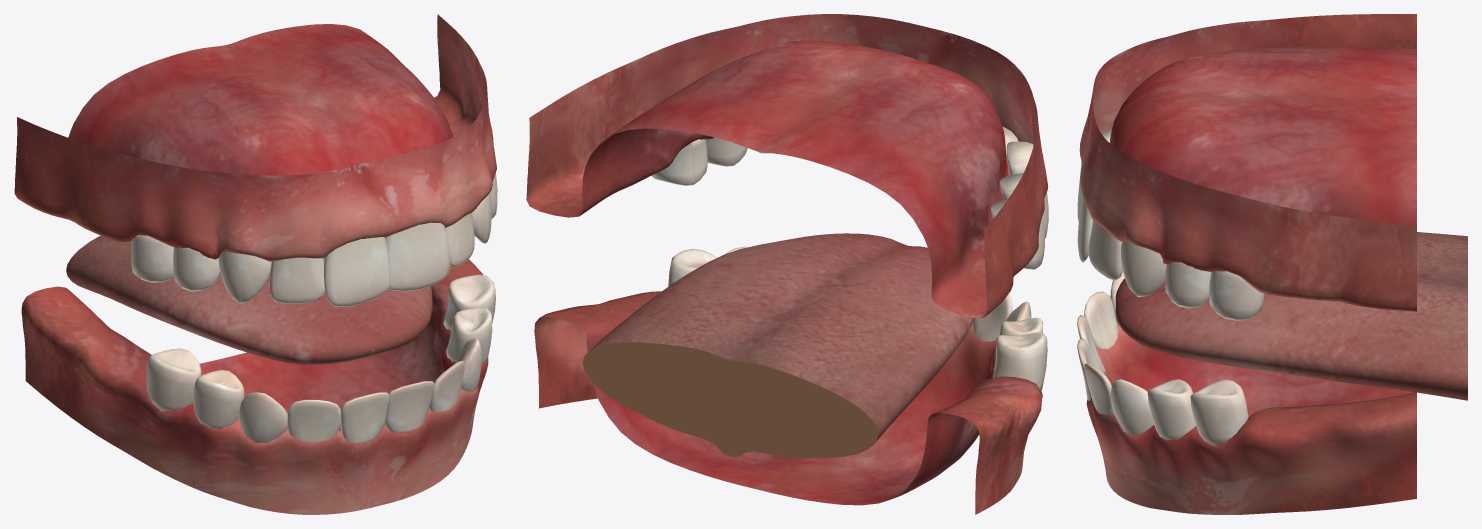
The model's file is ChildTeethNamed.glb.
The picture shows the model from 3 angles, left to right: view 1: azimuth 30°, elevation 25°; view 2: azimuth 150°, elevation 25°; view 3: azimuth 270°, elevation 25°; orthographic projection. The views are drawn at different scales.
Parts seen in each view (by area): view 1: EnciaSuperior, EnciaInferior, Lengua, IncisivoCentralSuperior1, IncisivoCentralSuperior2, SegundoPremolarInferior1, PrimerPremolarInferior1, IncisivoLateralSuperior1, IncisivoLateralInferior1, IncisivoCentralInferior1, CaninoSuperior1, CaninoInferior1 (+9 smaller); view 2: EnciaSuperior, Lengua, EnciaInferior, SegundoPremolarInferior1, SegundoPremolarSuperior2, IncisivoLateralInferior1, SegundoPremolarInferior2, PrimerPremolarSuperior2, CaninoSuperior1, PrimerPremolarInferior1; view 3: EnciaSuperior, EnciaInferior, Lengua, SegundoPremolarInferior2, PrimerPremolarInferior2, SegundoPremolarSuperior2, CaninoSuperior2, CaninoInferior2, PrimerPremolarSuperior2, IncisivoLateralInferior1, IncisivoLateralSuperior2, IncisivoLateralInferior2 (+3 smaller).
Boxes of the visible parts, x1,y1,x2,y2 form: EnciaSuperior: (14, 14, 496, 261); EnciaInferior: (21, 259, 488, 514); Lengua: (66, 235, 432, 364); IncisivoCentralSuperior1: (323, 237, 389, 306); IncisivoCentralSuperior2: (385, 222, 450, 291); SegundoPremolarInferior1: (146, 348, 201, 411); PrimerPremolarInferior1: (193, 370, 244, 428); IncisivoLateralSuperior1: (269, 257, 325, 303); IncisivoLateralInferior1: (287, 399, 340, 442); IncisivoCentralInferior1: (340, 392, 389, 443); CaninoSuperior1: (218, 252, 271, 303); CaninoInferior1: (239, 392, 287, 442); EnciaSuperior: (526, 14, 1048, 317); Lengua: (582, 233, 974, 458); EnciaInferior: (534, 291, 1042, 514); SegundoPremolarInferior1: (993, 332, 1047, 391); SegundoPremolarSuperior2: (652, 139, 707, 185); IncisivoLateralInferior1: (973, 294, 1012, 341); SegundoPremolarInferior2: (668, 249, 716, 286); PrimerPremolarSuperior2: (705, 137, 747, 166); CaninoSuperior1: (1006, 141, 1033, 175); PrimerPremolarInferior1: (993, 317, 1042, 370); EnciaSuperior: (1079, 14, 1416, 311); EnciaInferior: (1086, 324, 1416, 514); Lengua: (1115, 232, 1467, 400); SegundoPremolarInferior2: (1190, 379, 1248, 446); PrimerPremolarInferior2: (1147, 379, 1195, 440); SegundoPremolarSuperior2: (1209, 271, 1263, 320); CaninoSuperior2: (1121, 241, 1166, 297); CaninoInferior2: (1111, 379, 1154, 435); PrimerPremolarSuperior2: (1165, 262, 1211, 308); IncisivoLateralInferior1: (1084, 291, 1118, 348); IncisivoLateralSuperior2: (1088, 220, 1122, 280); IncisivoLateralInferior2: (1084, 363, 1113, 414).
Bounding box in the file's own units: 2.12 × 1.71 × 1.62.
3 materials, 3 textured.
